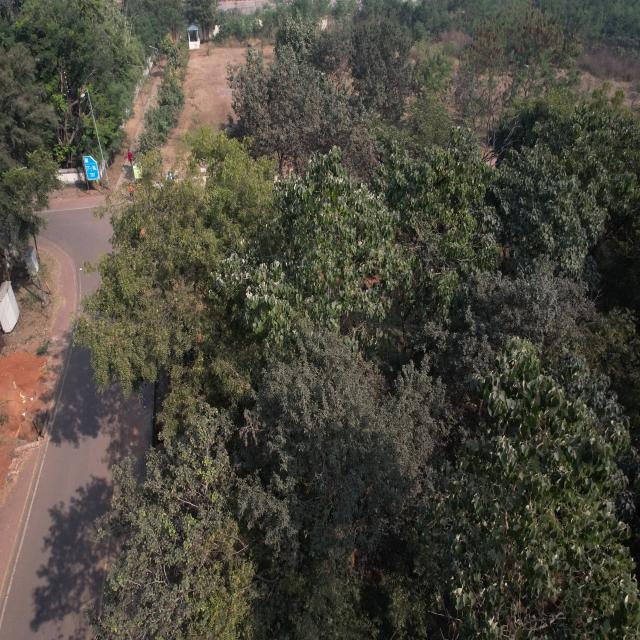Neem-Tree: (93, 191, 189, 376)
